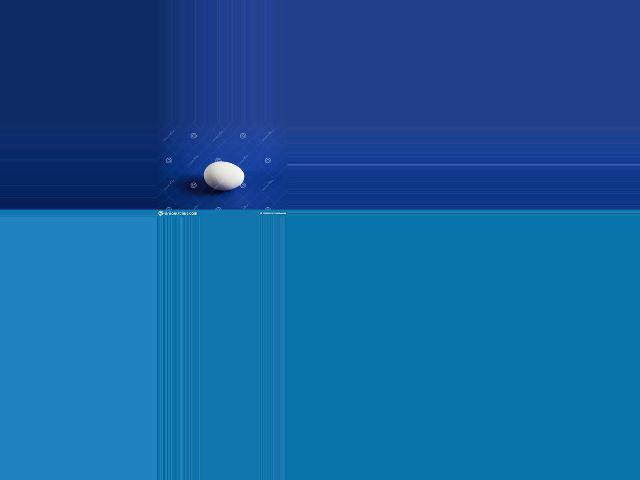egg: (204, 162, 245, 191)
